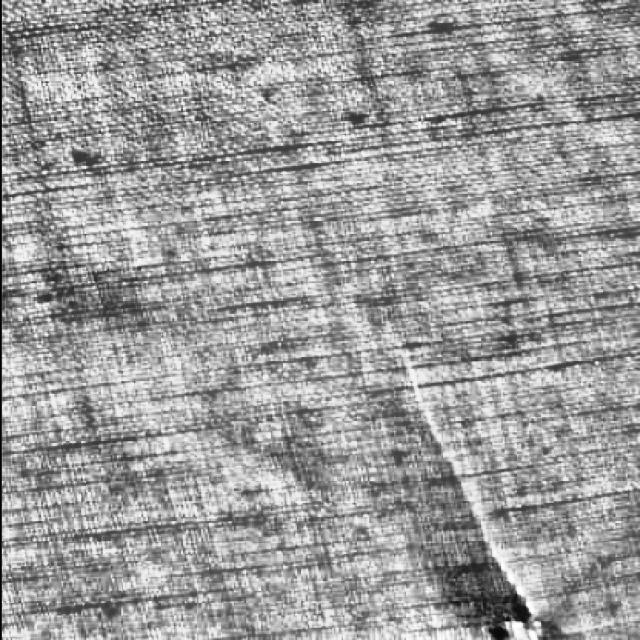hole: (386, 329, 551, 640)
